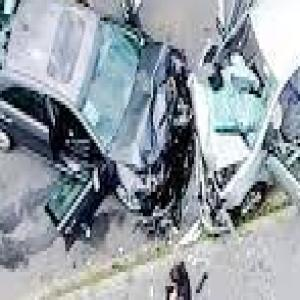critical: (0, 0, 300, 230)
